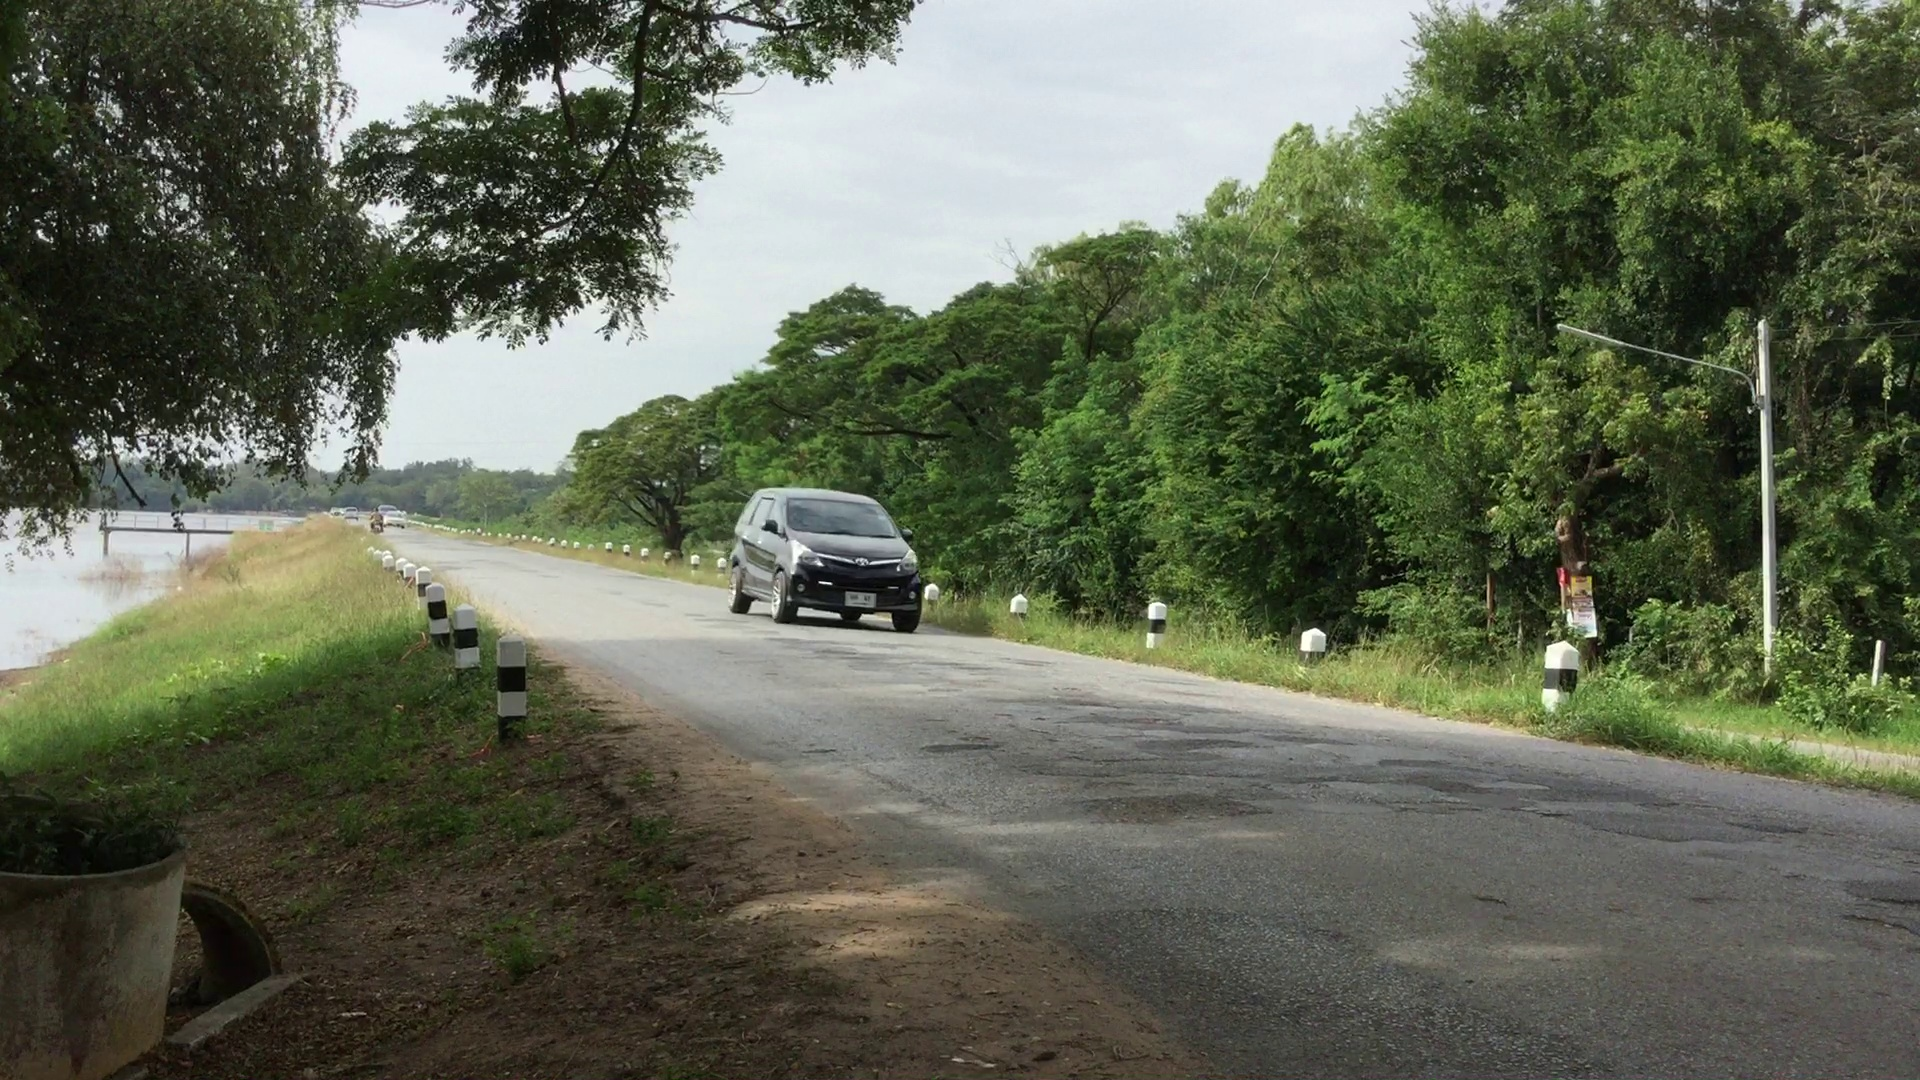car: (731, 484, 923, 634)
post: (492, 629, 530, 738), (1539, 637, 1581, 709), (448, 600, 483, 665), (425, 578, 450, 649), (1145, 596, 1168, 654), (1299, 624, 1329, 663)
